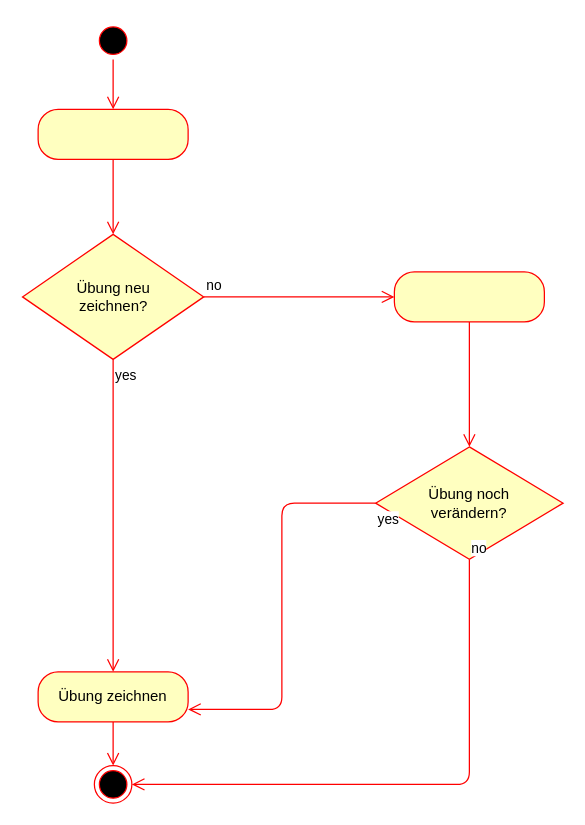
This 585x825 diagram has some shape labels left out. Each missing label, with the centre of its shape:
Trainingsplaner auswählen: the point at 112,133
Übung aus DB auswählen: the point at 468,296
